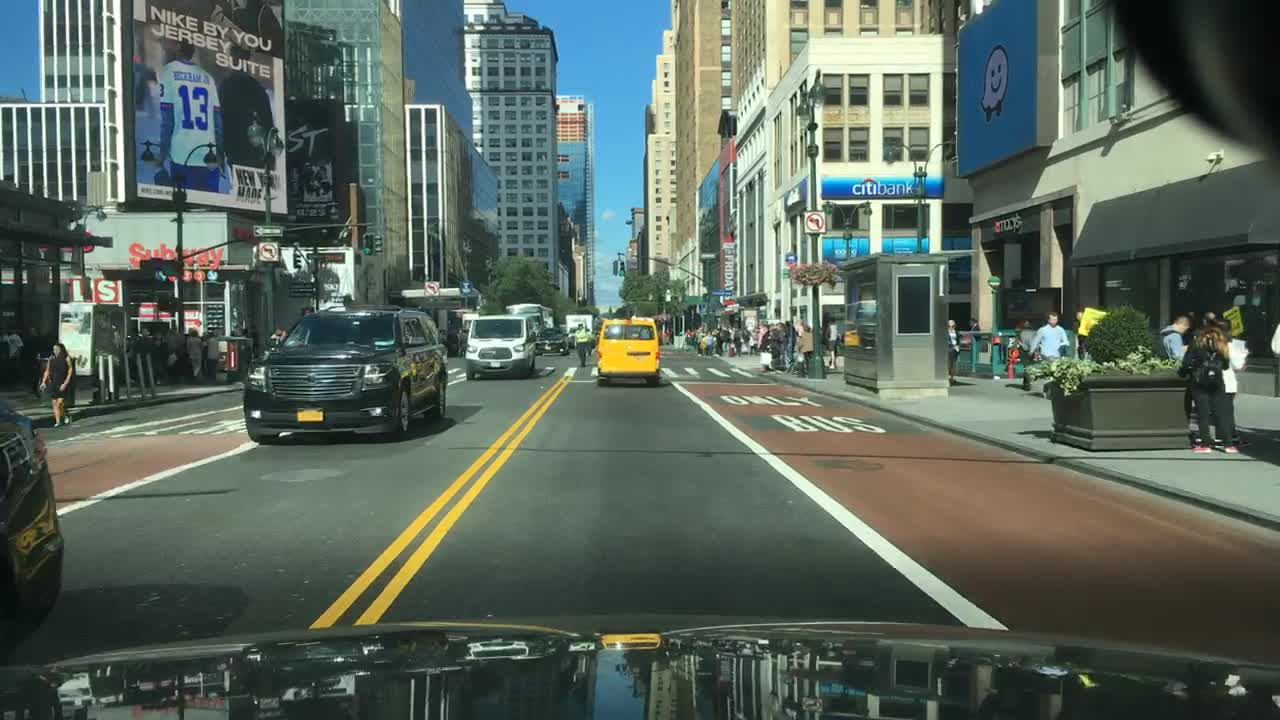bus: (502, 299, 552, 337)
car: (242, 302, 450, 444), (0, 392, 66, 666), (591, 317, 663, 387), (467, 312, 534, 383), (534, 330, 568, 359)
person: (1177, 310, 1240, 454), (1154, 310, 1190, 424), (1215, 317, 1247, 443), (1024, 312, 1069, 400), (41, 342, 77, 428), (163, 324, 188, 382), (22, 323, 42, 388), (134, 328, 157, 383), (823, 314, 843, 372), (943, 317, 960, 384), (1068, 310, 1088, 364), (7, 322, 23, 389), (200, 329, 217, 382), (187, 328, 207, 373), (124, 325, 139, 382), (152, 327, 167, 378), (571, 319, 587, 365), (797, 324, 811, 374), (763, 320, 776, 373), (781, 319, 796, 362), (731, 320, 746, 354), (969, 317, 983, 350), (748, 322, 761, 352), (701, 329, 716, 352), (270, 327, 284, 349), (719, 327, 728, 354)
traffic light: (361, 231, 373, 254), (373, 236, 384, 254), (618, 261, 627, 278), (293, 252, 300, 272)
traffic sign: (801, 209, 826, 236), (260, 242, 277, 262), (456, 278, 475, 295), (255, 225, 283, 236), (424, 280, 442, 297), (782, 252, 799, 268)
